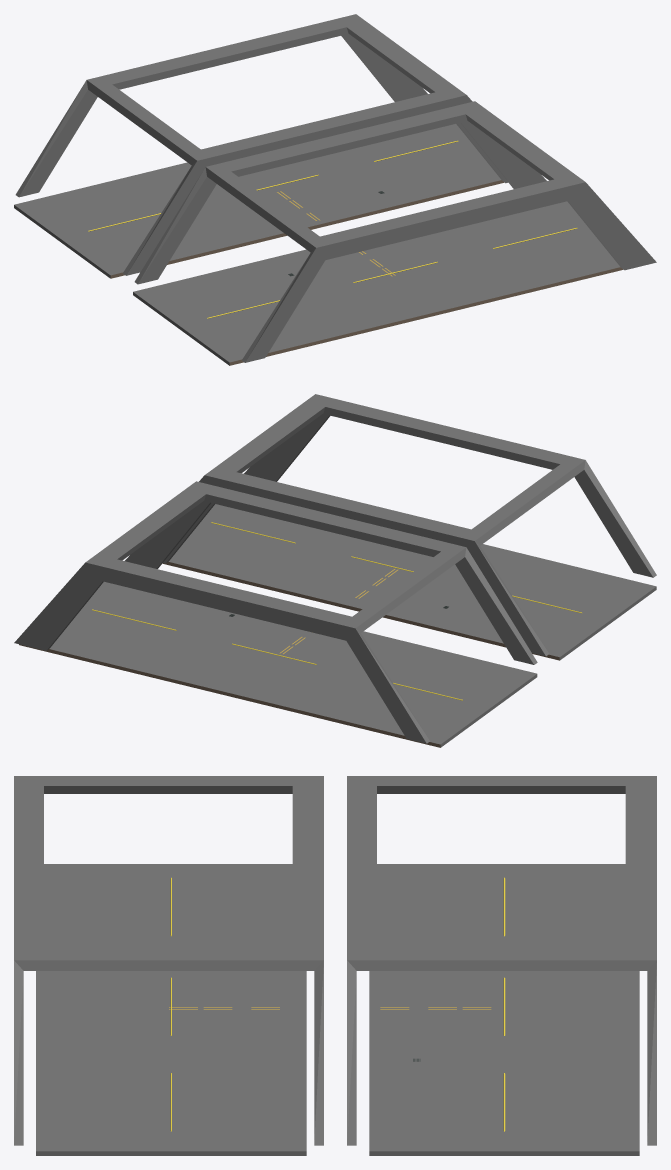
3 views of the same model, one above another, from view 1: azimuth 30°, elevation 25°; view 2: azimuth 150°, elevation 25°; view 3: azimuth 270°, elevation 25° (orthographic). The views are drawn at different scales.
Visible parts, largest first — view 1: RD106F | archived geometry, RD106F | line, light and sprite surfaces; view 2: RD106F | archived geometry, RD106F | line, light and sprite surfaces; view 3: RD106F | archived geometry, RD106F | line, light and sprite surfaces.
Part boxes in pixels (x1,y1,x2,y2): RD106F | archived geometry: (14,14,656,365); RD106F | line, light and sprite surfaces: (88,140,577,318); RD106F | archived geometry: (14,394,656,747); RD106F | line, light and sprite surfaces: (92,522,581,700); RD106F | archived geometry: (14,776,656,1155); RD106F | line, light and sprite surfaces: (170,877,505,1131).
Size of the model in its own units: 32.66 by 7.76 by 30.89.
